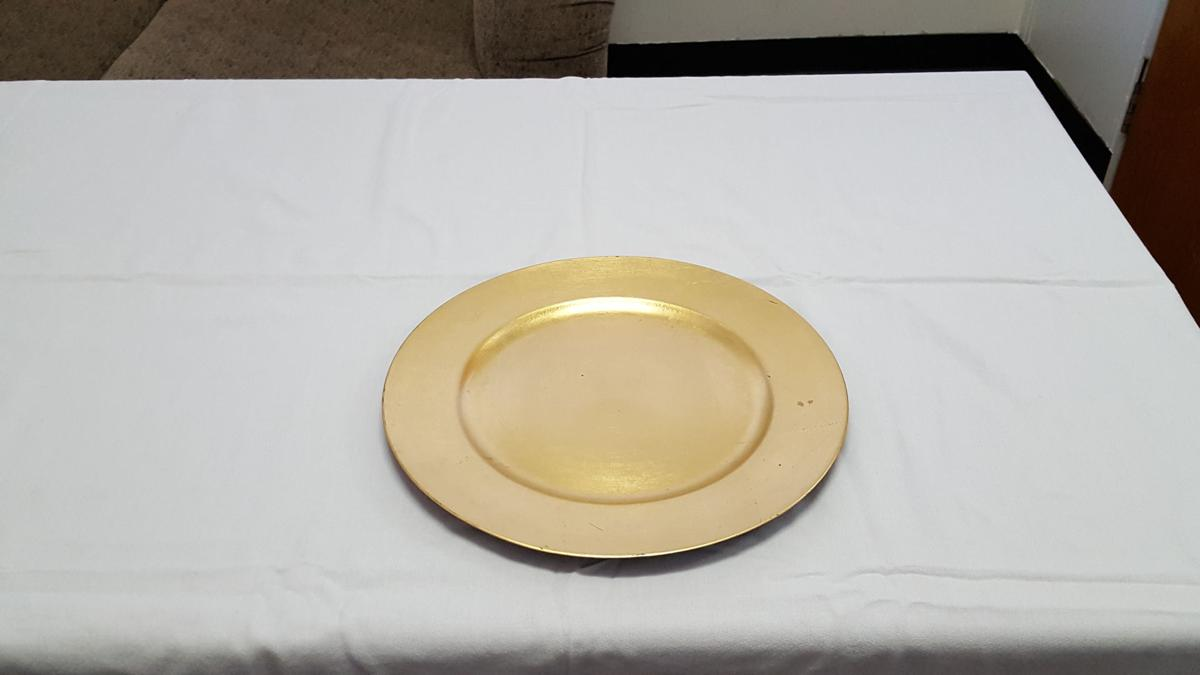plate: (376, 253, 857, 566)
